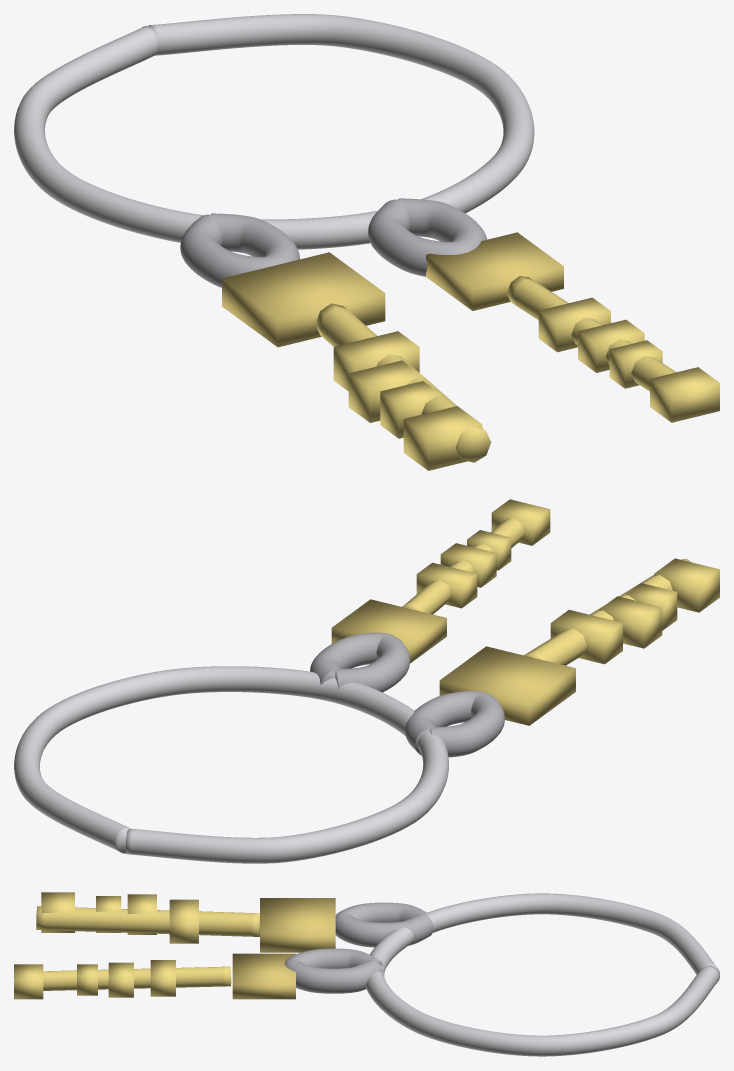
The model's file is tractor_keys.glb.
The picture shows the model from 3 angles, top to bottom: view 1: azimuth 30°, elevation 25°; view 2: azimuth 150°, elevation 25°; view 3: azimuth 270°, elevation 25°; orthographic projection. The views are drawn at different scales.
Visible parts, largest first — view 1: KeyRing, Key1Bow, Key2Bow, JumpRing2, JumpRing1, Key1Shaft, Key1Tooth3, Key2Tooth3, Key2Shaft, Key1Shoulder, Key1Tooth1, Key2Shoulder (+3 smaller); view 2: KeyRing, Key1Bow, JumpRing1, JumpRing2, Key2Bow, Key1Shoulder, Key1Tooth3, Key1Tooth1, Key1Shaft, Key2Shaft, Key2Shoulder, Key2Tooth3 (+3 smaller); view 3: KeyRing, Key1Shaft, Key1Bow, JumpRing2, JumpRing1, Key2Bow, Key2Shaft, Key1Shoulder, Key2Tooth3, Key2Shoulder, Key2Tooth1, Key1Tooth3 (+3 smaller).
Part boxes in pixels (x1,y1,x2,y2): KeyRing: [14, 14, 534, 249]; Key1Bow: [222, 252, 385, 347]; Key2Bow: [426, 232, 563, 310]; JumpRing2: [368, 198, 486, 276]; JumpRing1: [180, 213, 299, 287]; Key1Shaft: [315, 303, 491, 462]; Key1Tooth3: [403, 406, 482, 470]; Key2Tooth3: [650, 367, 719, 422]; Key2Shaft: [507, 276, 676, 391]; Key1Shoulder: [333, 331, 419, 391]; Key1Tooth1: [348, 360, 423, 422]; Key2Shoulder: [538, 297, 610, 352]; KeyRing: [14, 666, 448, 863]; Key1Bow: [439, 646, 575, 725]; JumpRing1: [404, 691, 504, 757]; JumpRing2: [310, 632, 410, 692]; Key2Bow: [331, 599, 446, 663]; Key1Shoulder: [550, 610, 622, 664]; Key1Tooth3: [654, 558, 719, 612]; Key1Tooth1: [599, 596, 662, 648]; Key1Shaft: [524, 558, 690, 665]; Key2Shaft: [402, 518, 524, 614]; Key2Shoulder: [416, 562, 477, 608]; Key2Tooth3: [491, 499, 550, 545]; KeyRing: [366, 893, 719, 1056]; Key1Shaft: [36, 906, 260, 936]; Key1Bow: [260, 898, 335, 952]; JumpRing2: [284, 948, 382, 993]; JumpRing1: [335, 902, 433, 947]; Key2Bow: [232, 953, 295, 999]; Key2Shaft: [43, 966, 231, 990]; Key1Shoulder: [169, 899, 198, 943]; Key2Tooth3: [14, 964, 43, 999]; Key2Shoulder: [150, 960, 175, 996]; Key2Tooth1: [108, 962, 133, 997]; Key1Tooth3: [41, 892, 74, 932].
Bounding box in the file's own units: 0.085 × 0.007 × 0.1678.
